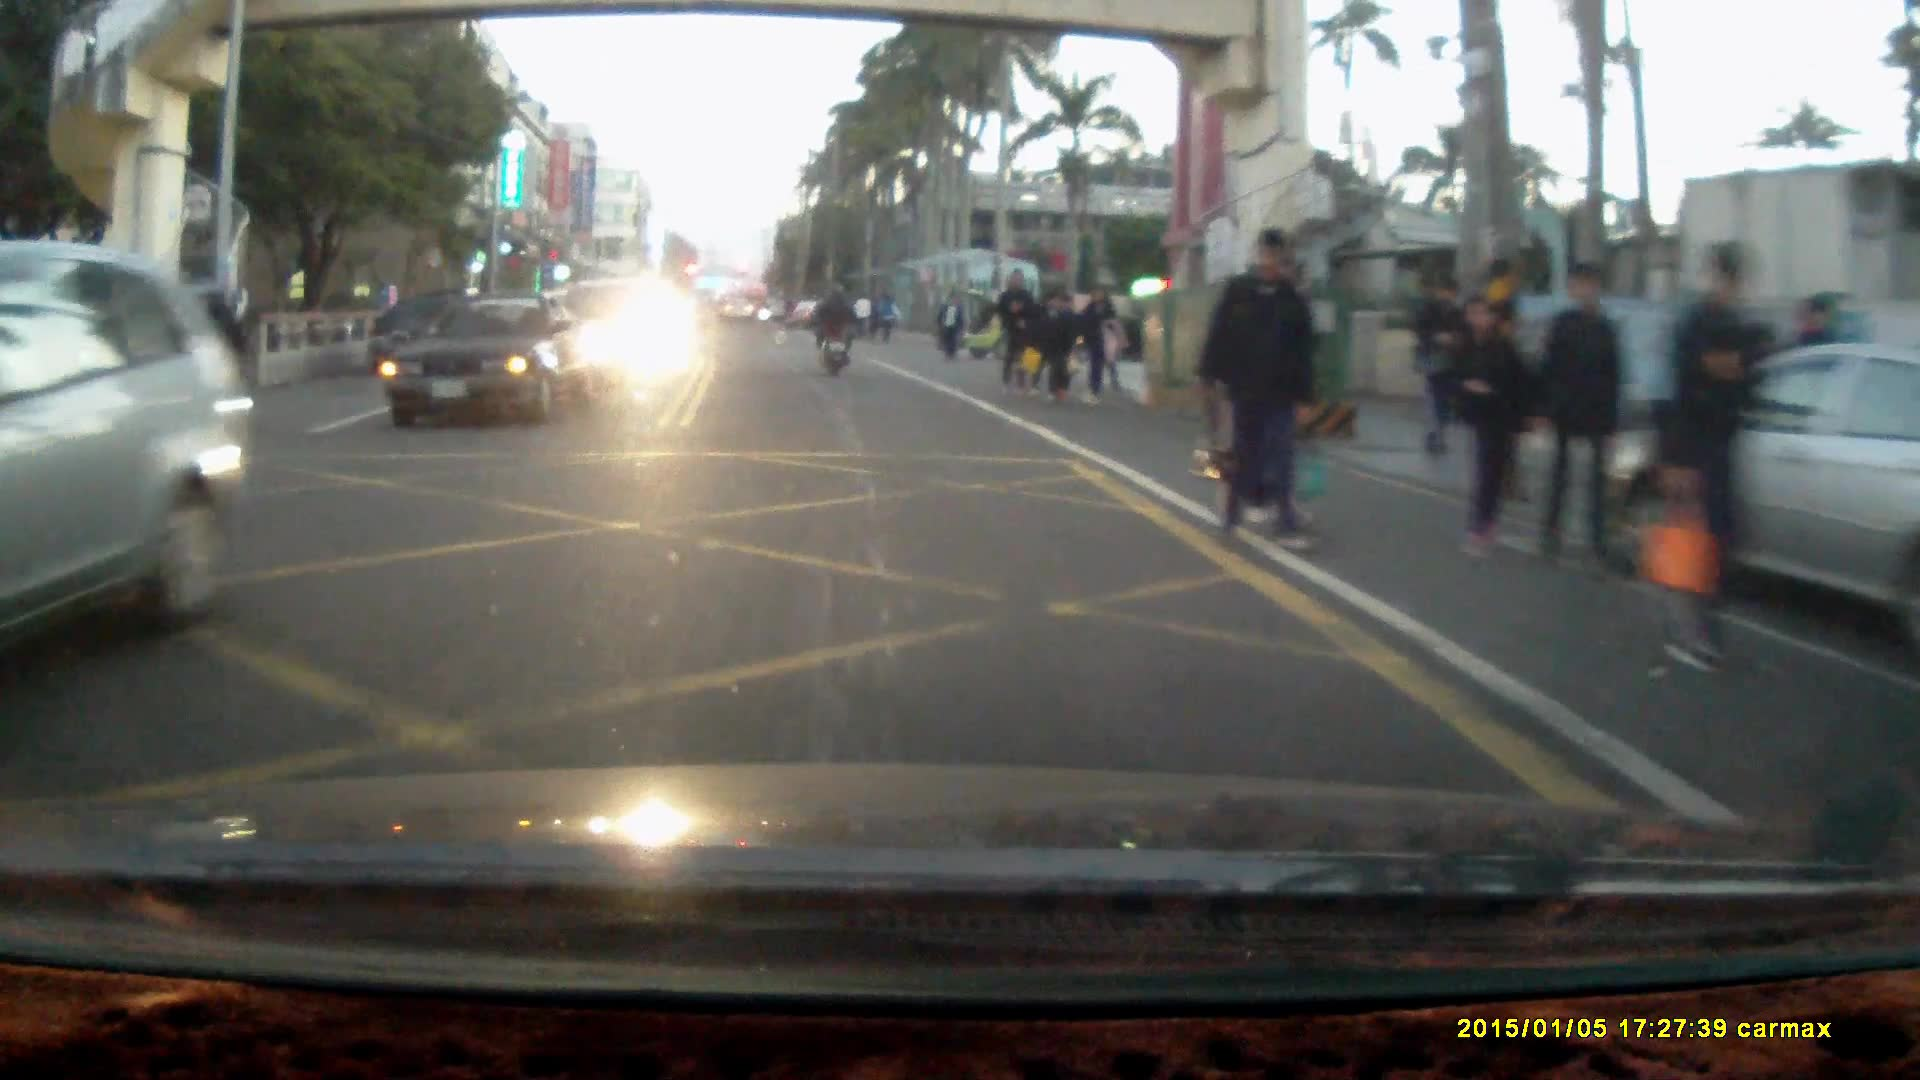pedestrian: (1654, 238, 1767, 678), (1197, 232, 1313, 557), (1533, 261, 1631, 581), (1451, 291, 1535, 566), (1413, 278, 1465, 469), (1073, 284, 1121, 408), (995, 267, 1038, 398), (1032, 291, 1076, 405), (939, 291, 963, 364)
rider: (143, 281, 250, 458), (813, 283, 855, 378)
vehicle: (1, 239, 254, 640), (1592, 335, 1920, 632), (376, 304, 608, 437)
